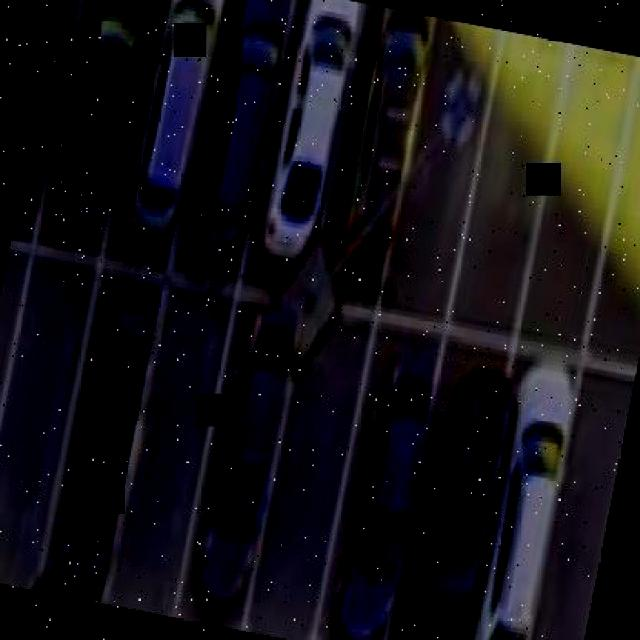car: (320, 4, 434, 290), (186, 326, 291, 622), (188, 0, 296, 263), (58, 290, 160, 556), (340, 354, 434, 636), (478, 375, 578, 640), (412, 368, 506, 640), (255, 0, 358, 246), (124, 0, 228, 240), (54, 0, 146, 209), (18, 0, 75, 195), (0, 283, 15, 520)
free: (0, 274, 94, 558), (392, 47, 490, 286), (253, 373, 347, 616), (122, 347, 216, 584), (526, 84, 620, 310), (540, 412, 626, 640), (470, 57, 556, 276), (606, 98, 640, 331)
